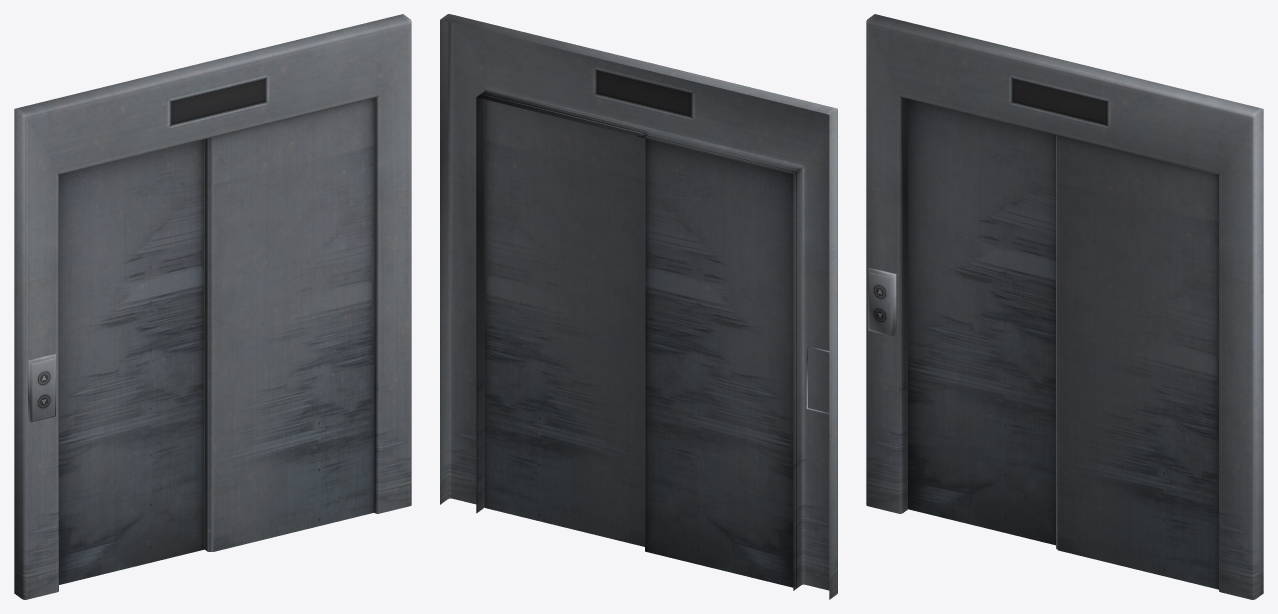
The model's file is Elevator_door.FBX.
The picture shows the model from 3 angles, left to right: view 1: azimuth 30°, elevation 25°; view 2: azimuth 150°, elevation 25°; view 3: azimuth 330°, elevation 25°; orthographic projection.
Parts seen in each view (by area): view 1: Elevator_door; view 2: Elevator_door; view 3: Elevator_door.
Part boxes in pixels (box(x1,y1,x2,y2)): Elevator_door: box(14, 14, 411, 599); Elevator_door: box(440, 14, 837, 599); Elevator_door: box(866, 14, 1263, 599).
Size of the model in its own units: 159 by 8.75 by 190.
1 material, 1 textured.
